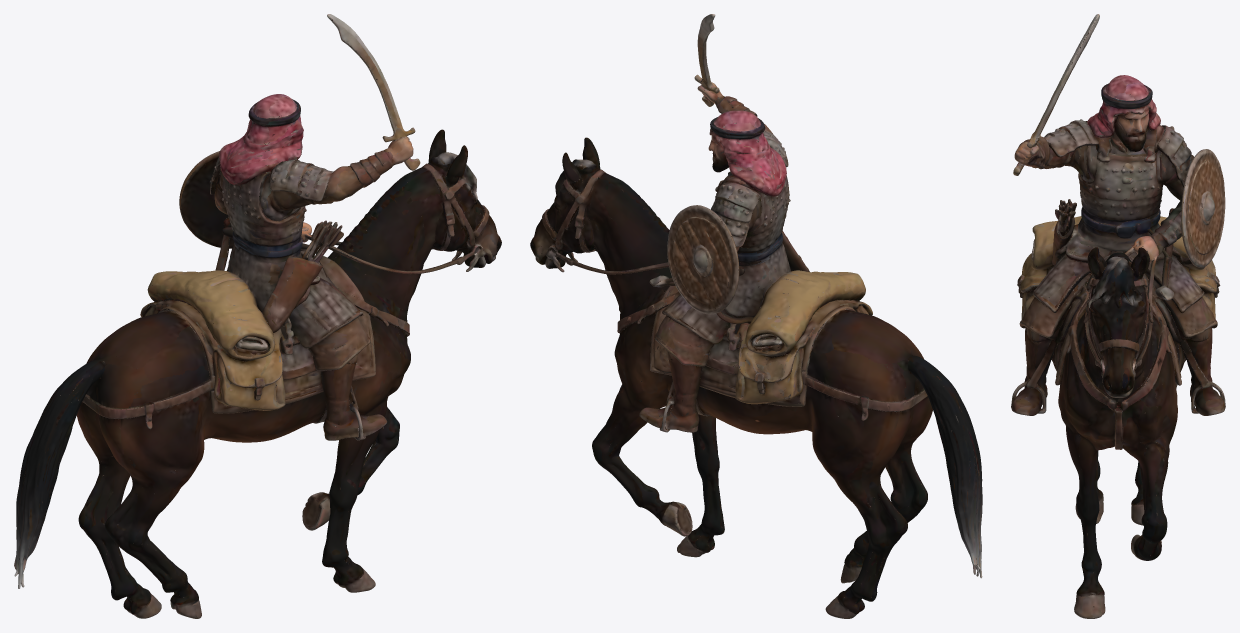
The model's file is horseman.glb.
The picture shows the model from 3 angles, left to right: view 1: azimuth 30°, elevation 25°; view 2: azimuth 150°, elevation 25°; view 3: azimuth 270°, elevation 25°; orthographic projection. The views are drawn at different scales.
Parts seen in each view (by area): view 1: tripo_node_1472bd30-544c-4d76-b59e-6025e0c932f3; view 2: tripo_node_1472bd30-544c-4d76-b59e-6025e0c932f3; view 3: tripo_node_1472bd30-544c-4d76-b59e-6025e0c932f3.
Boxes of the visible parts, x1,y1,x2,y2 form: tripo_node_1472bd30-544c-4d76-b59e-6025e0c932f3: [14, 14, 501, 618]; tripo_node_1472bd30-544c-4d76-b59e-6025e0c932f3: [530, 14, 982, 618]; tripo_node_1472bd30-544c-4d76-b59e-6025e0c932f3: [1011, 14, 1225, 618].
Bounding box in the file's own units: 0.8655 × 0.9999 × 0.3322.
Materials: 1 (1 with a texture image).
